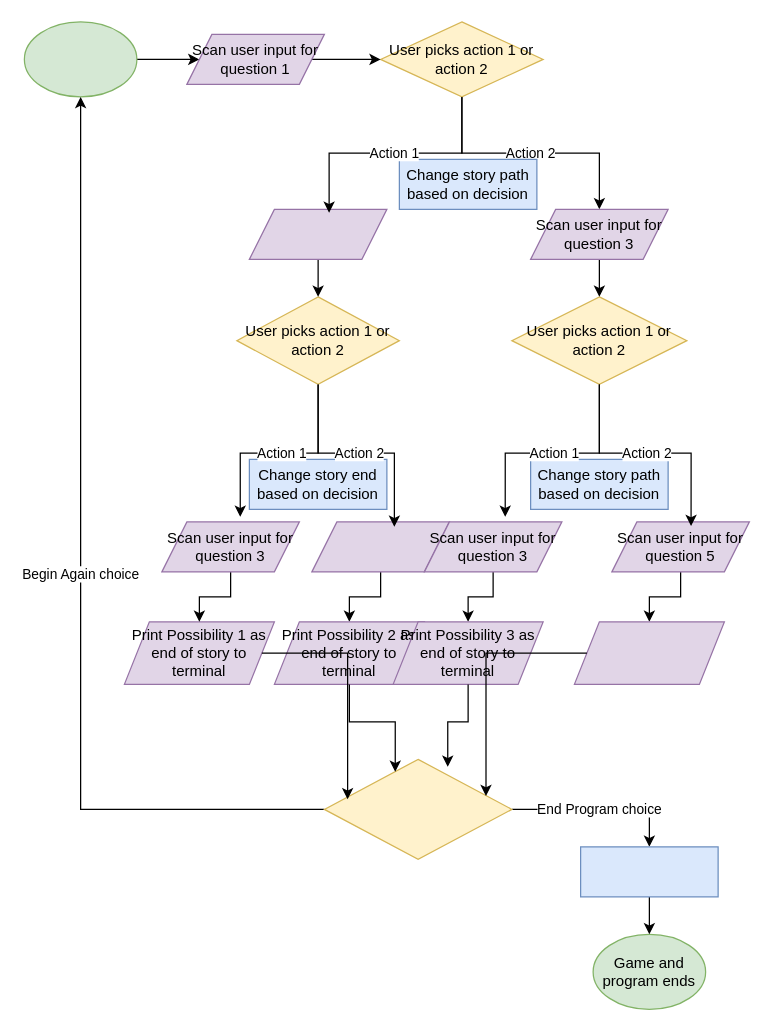
The diagram is 771 pixels wide and 1031 high, and some of its shapes have lost their labels. The shapes that lost their labels are listed below. From the top down, each one's box as (x1, y1, x2, y2) in pixels, then its label:
(23, 21, 137, 97): Print introduction to terminal
(248, 208, 387, 259): Scan user input for question 2
(311, 521, 449, 572): Scan user input for question 4
(573, 621, 724, 684): Print Possibility 4 as end of story to terminal
(323, 758, 512, 859): User chooses to end program or play again
(579, 846, 718, 897): End program
